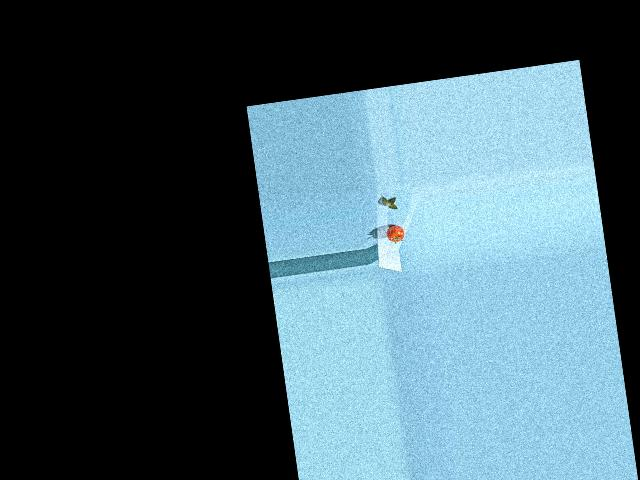tomato: (385, 224, 405, 243)
